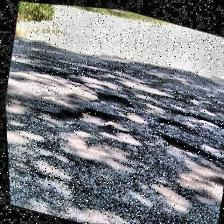pothole: (50, 94, 122, 144), (155, 132, 221, 168), (91, 84, 135, 116), (154, 111, 198, 139)
